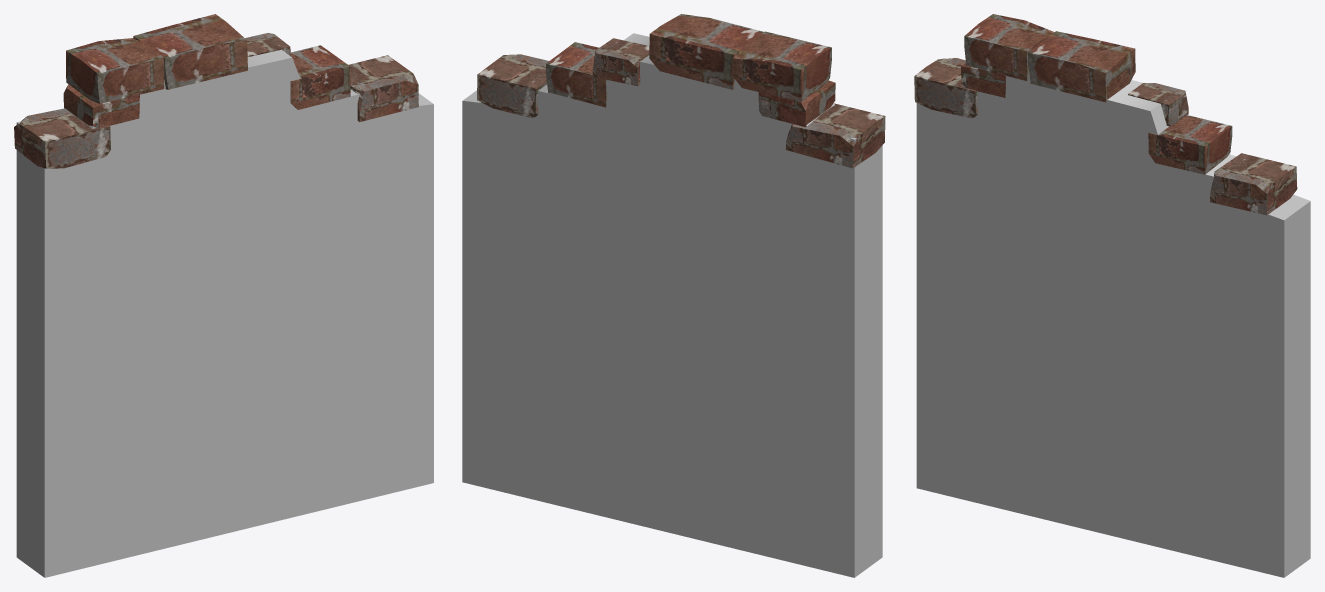
File: SM_Wall_Ruined_17.fbx
3 renders of one model, left to right at view 1: azimuth 30°, elevation 25°; view 2: azimuth 150°, elevation 25°; view 3: azimuth 330°, elevation 25°, orthographic. The views are drawn at different scales.
Visible parts, largest first — view 1: SM_Wall_Ruined_17_LOD0; view 2: SM_Wall_Ruined_17_LOD0; view 3: SM_Wall_Ruined_17_LOD0.
Boxes of the visible parts, box(x1,y1,x2,y2) form: SM_Wall_Ruined_17_LOD0: box(14, 14, 433, 577); SM_Wall_Ruined_17_LOD0: box(462, 14, 885, 577); SM_Wall_Ruined_17_LOD0: box(914, 14, 1310, 577).
Size of what is drawn, in the model's own units: 401 by 485 by 58.41.
